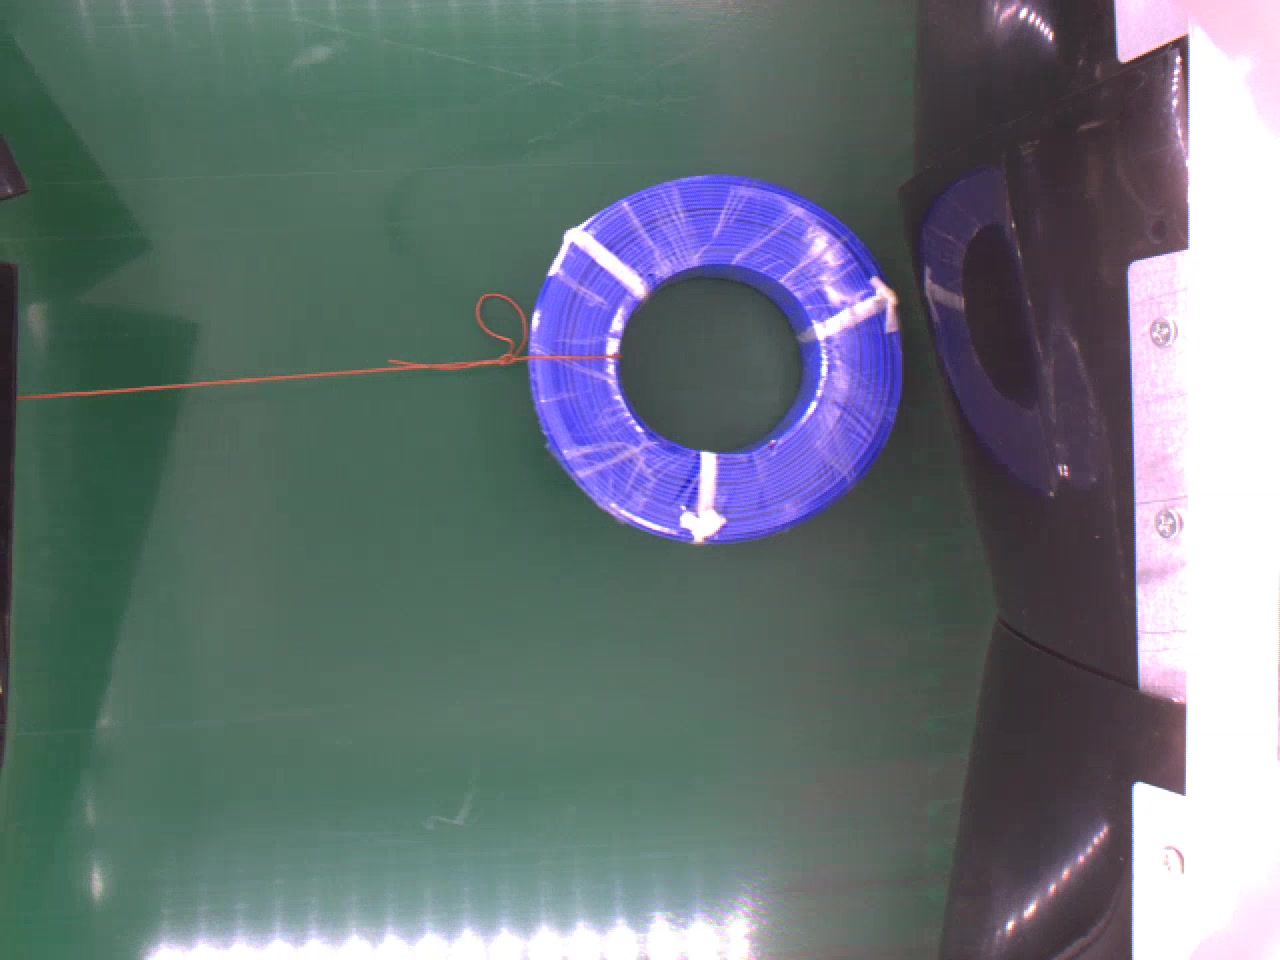blue: (523, 166, 915, 544)
